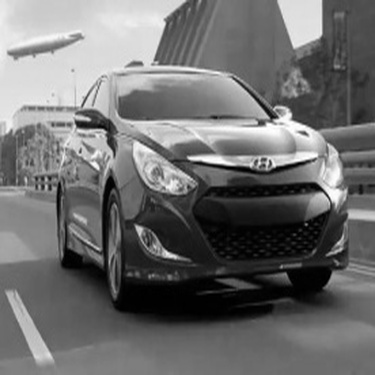car: (50, 55, 356, 312)
